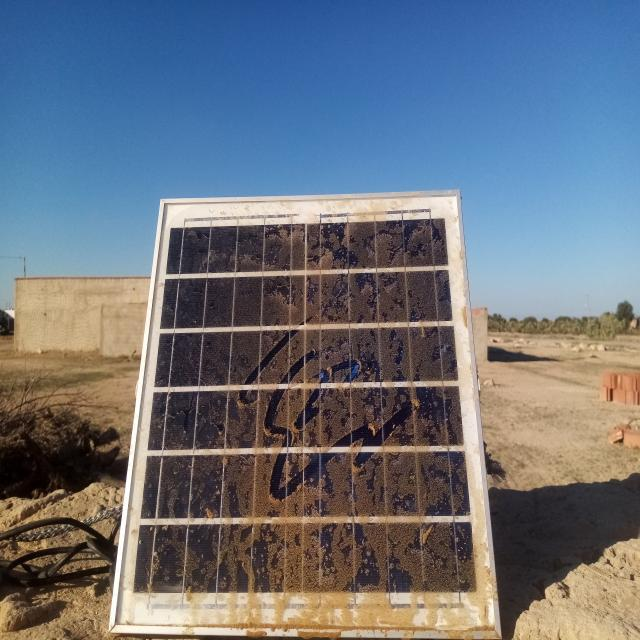faulty: (112, 192, 499, 634)
